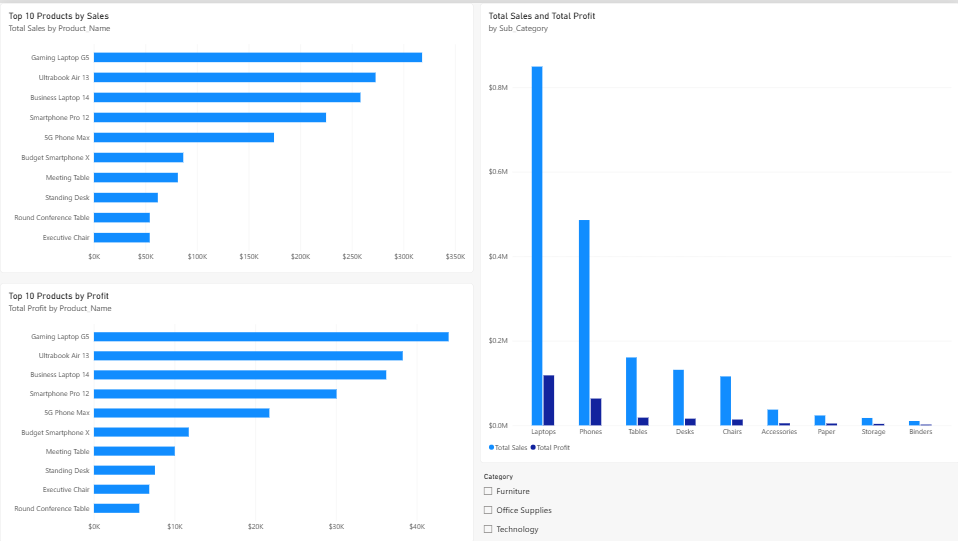

This screenshot's page, from the dashboard's own definition file:
{"tool":"powerbi","page":{"name":"Product Analysis","canvas":[1920,1080],"ordinal":1},"visuals":[{"type":"clusteredBarChart","title":"Top 10 Products by Sales","fields":{"Category":["Sales.Product_Name"],"Y":["Sales.Total Sales"]},"box":[0,0,947.5,540],"z":0},{"type":"clusteredBarChart","title":"Top 10 Products by Profit","fields":{"Category":["Sales.Product_Name"],"Y":["Sales.Total Profit"]},"box":[0,560,947.5,520],"z":1000},{"type":"clusteredColumnChart","fields":{"Category":["Sales.Sub_Category"],"Y":["Sales.Total Sales","Sales.Total Profit"]},"box":[960,0,960,920],"z":2000},{"type":"slicer","fields":{"Values":["Sales.Category"]},"box":[960,937.5,960,142.5],"z":2001}]}

Visuals, with their boxes in screenshot pixels (x1, y1, x2, y2), scaled from the page's 1920x1080 canvas onto the 958x541 screenshot:
"Top 10 Products by Sales" clusteredBarChart: (0,0,473,270)
"Top 10 Products by Profit" clusteredBarChart: (0,281,473,540)
clusteredColumnChart - Sales.Sub_Category x Sales.Total Sales: (479,0,957,461)
slicer - Sales.Category: (479,470,957,540)
